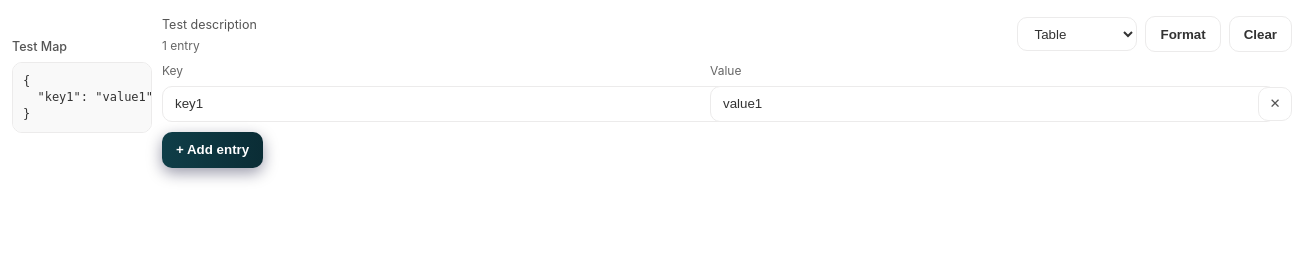
it: JsonMapEditor › Mode switching › switches from raw to table view
// Switch to raw
Select "JSON" in the dropdown named "map editor view" at (1078, 34), box [1018,17,1138,51]
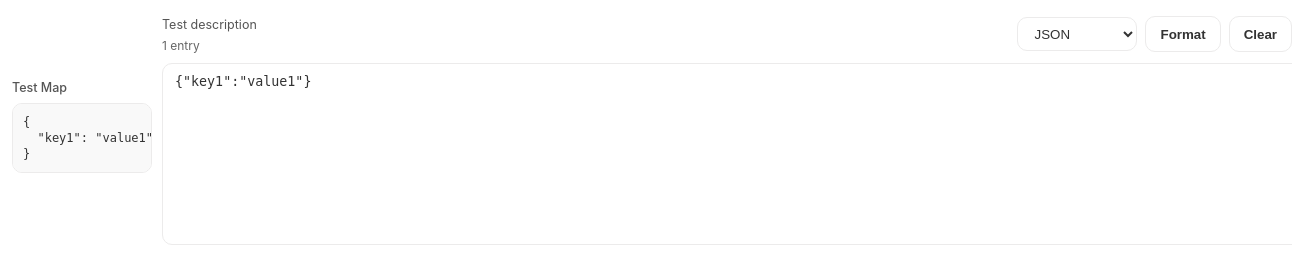
// Switch back to table
Select "Table" in the dropdown named "map editor view" at (1078, 34), box [1018,17,1138,51]
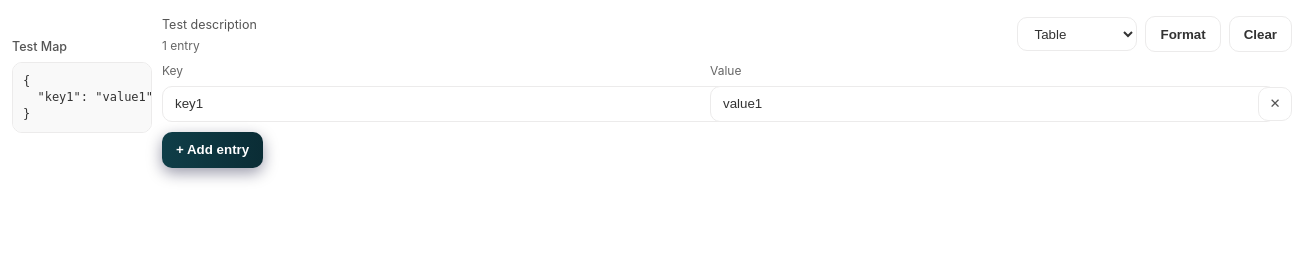
Now the text "Key" is shown, box [162,63,183,78]
